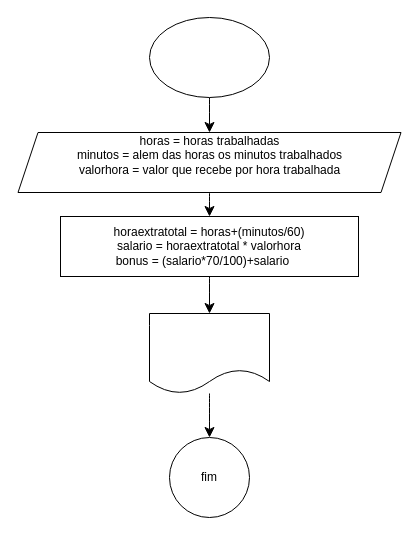
Image size: 418x535. Some labels were removed from this diagram. The centre of each missing label's shape, as x and y in pixels:
"bonus" goes at [209,353].
"inincio" goes at [209,57].
